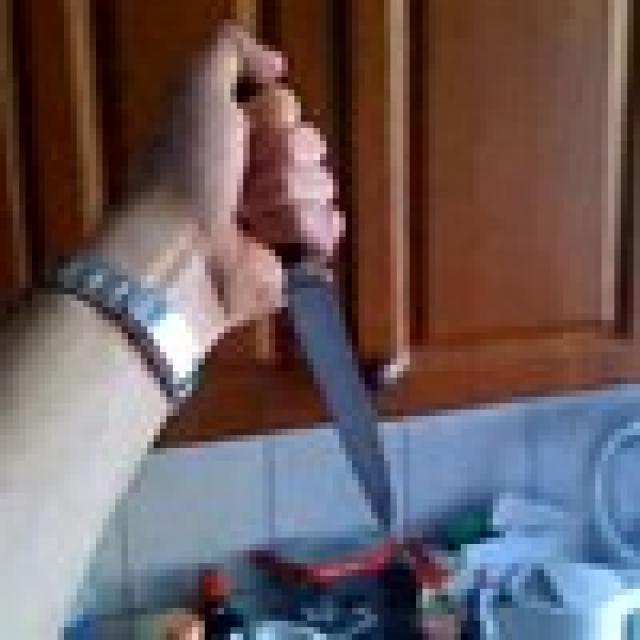Knife: (237, 84, 397, 518)
